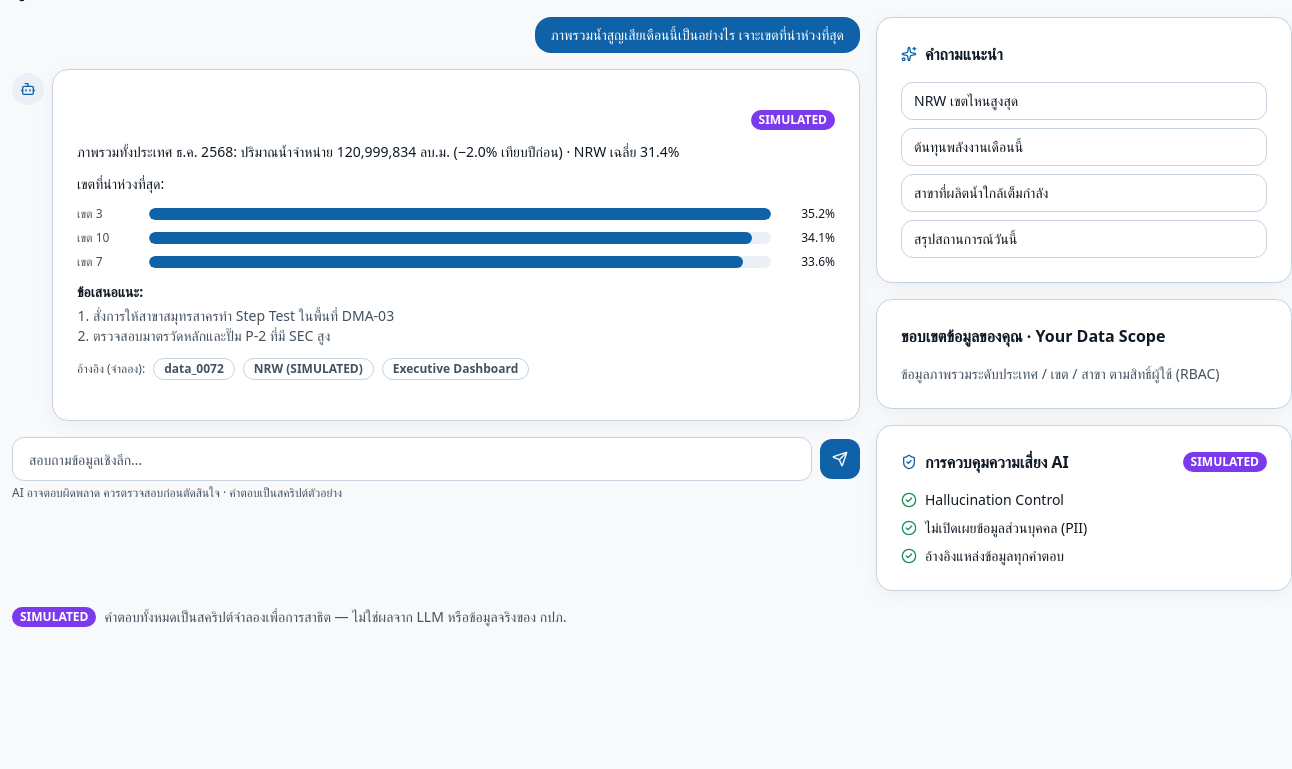
Test: AiAssistantScreen › answers a typed question through the composer
In the field labelled "สอบถามข้อมูลเชิงลึก": (412, 459) [12,437,812,481], type "NRW เขตไหนสูงสุด"
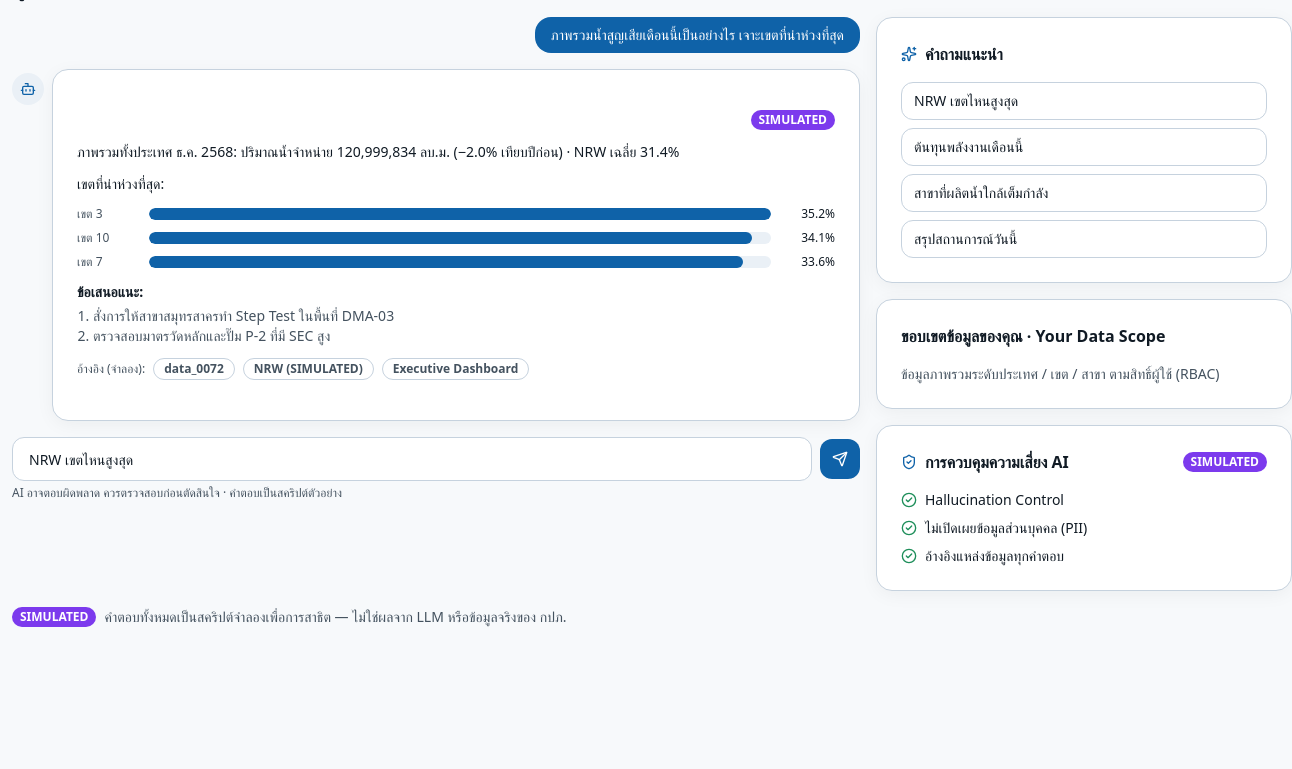
Submit the form named "สอบถามข้อมูลเชิงลึก", box [12,437,860,481]
(page scrolled)
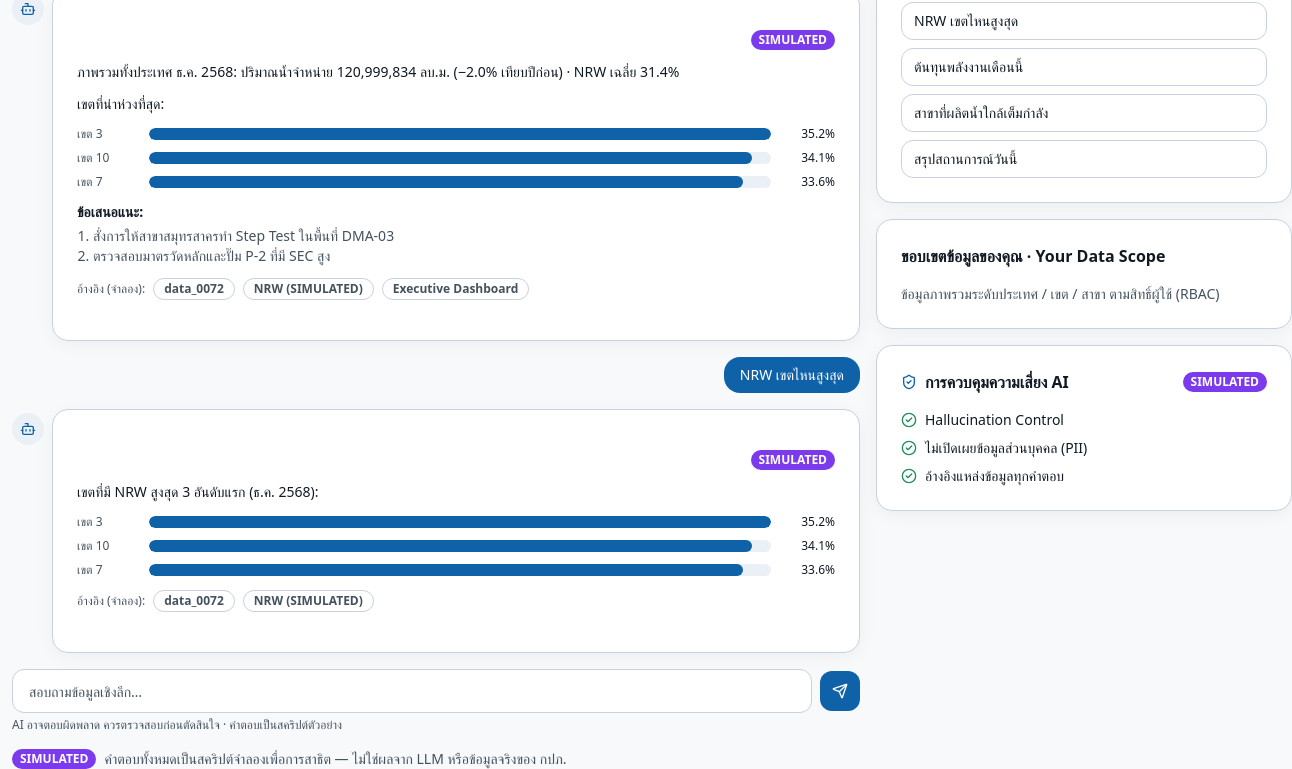
Result: the element with test id "chat-user" reads "NRW เขตไหนสูงสุด" at [740,365,844,384]
Result: the field labelled "สอบถามข้อมูลเชิงลึก" is empty at [12,669,812,713]
